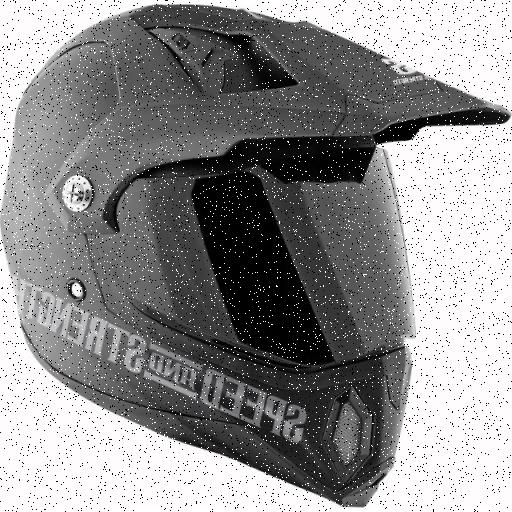Helmet: (2, 7, 509, 504)
